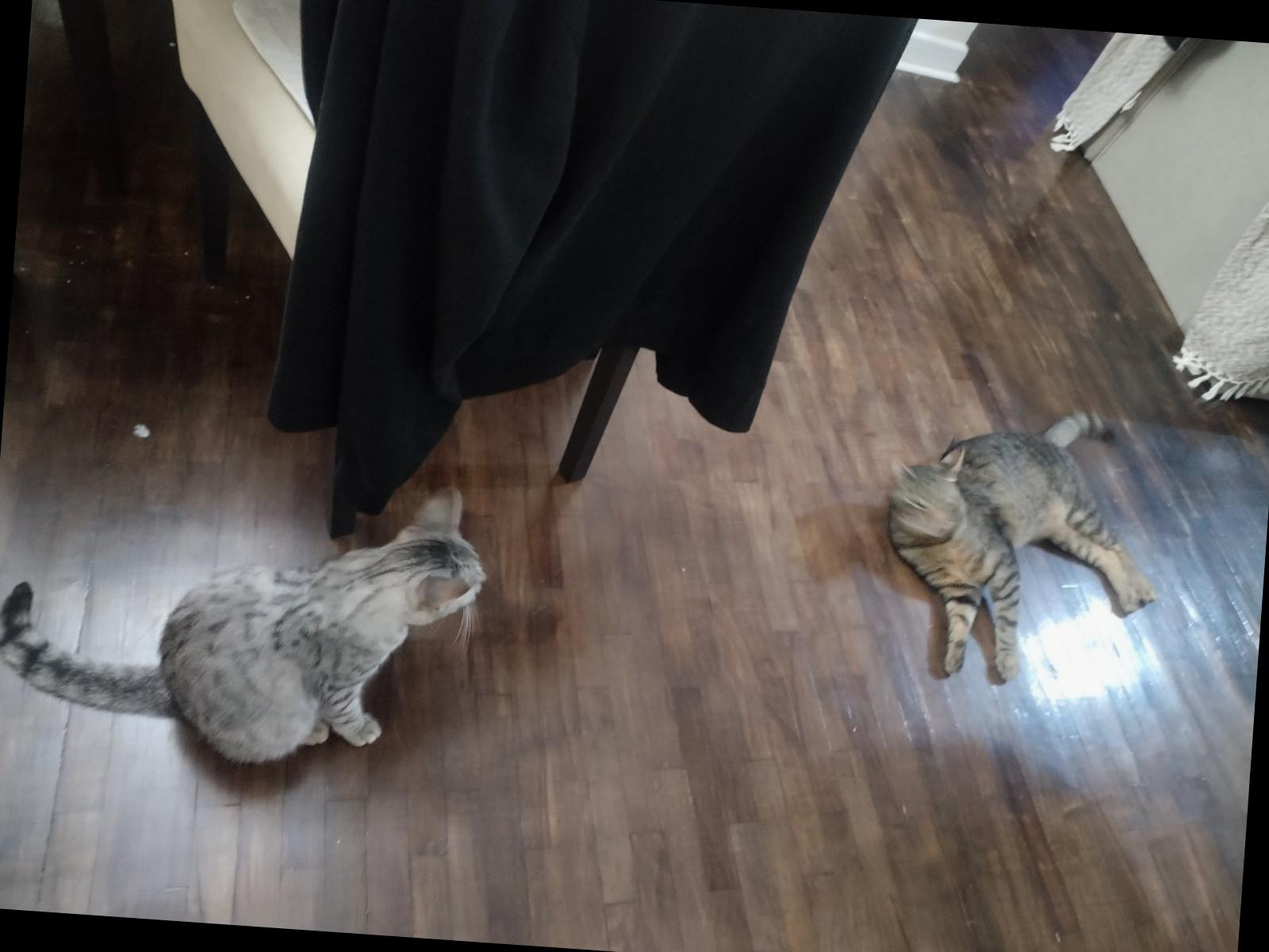macka: (0, 461, 496, 781), (873, 397, 1172, 691)
